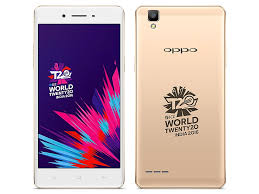oppo: (133, 2, 227, 190), (33, 4, 127, 192)
